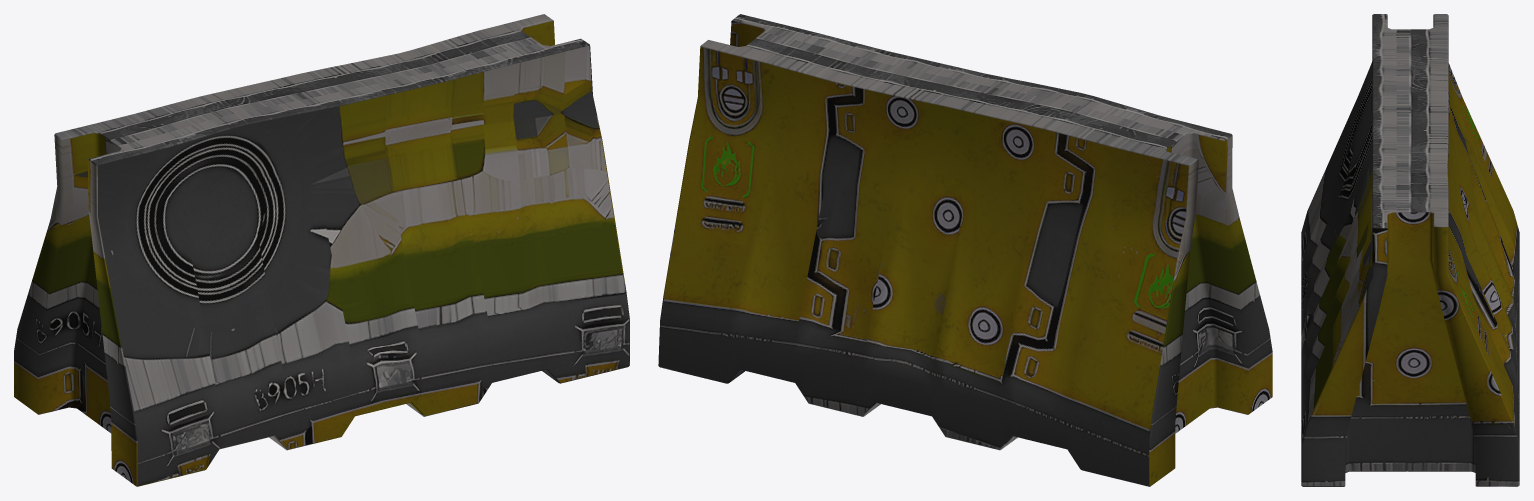
File: barrier_yellow.obj
The picture shows the model from 3 angles, left to right: view 1: azimuth 30°, elevation 25°; view 2: azimuth 150°, elevation 25°; view 3: azimuth 270°, elevation 25°; orthographic projection. The views are drawn at different scales.
Parts seen in each view (by area): view 1: barrier_yellow; view 2: barrier_yellow; view 3: barrier_yellow.
Boxes of the visible parts, x1=… form: barrier_yellow: x1=14, y1=14, x2=629, y2=486; barrier_yellow: x1=658, y1=14, x2=1272, y2=486; barrier_yellow: x1=1301, y1=14, x2=1519, y2=486.
Bounding box in the file's own units: 112 × 64 × 47.9.
